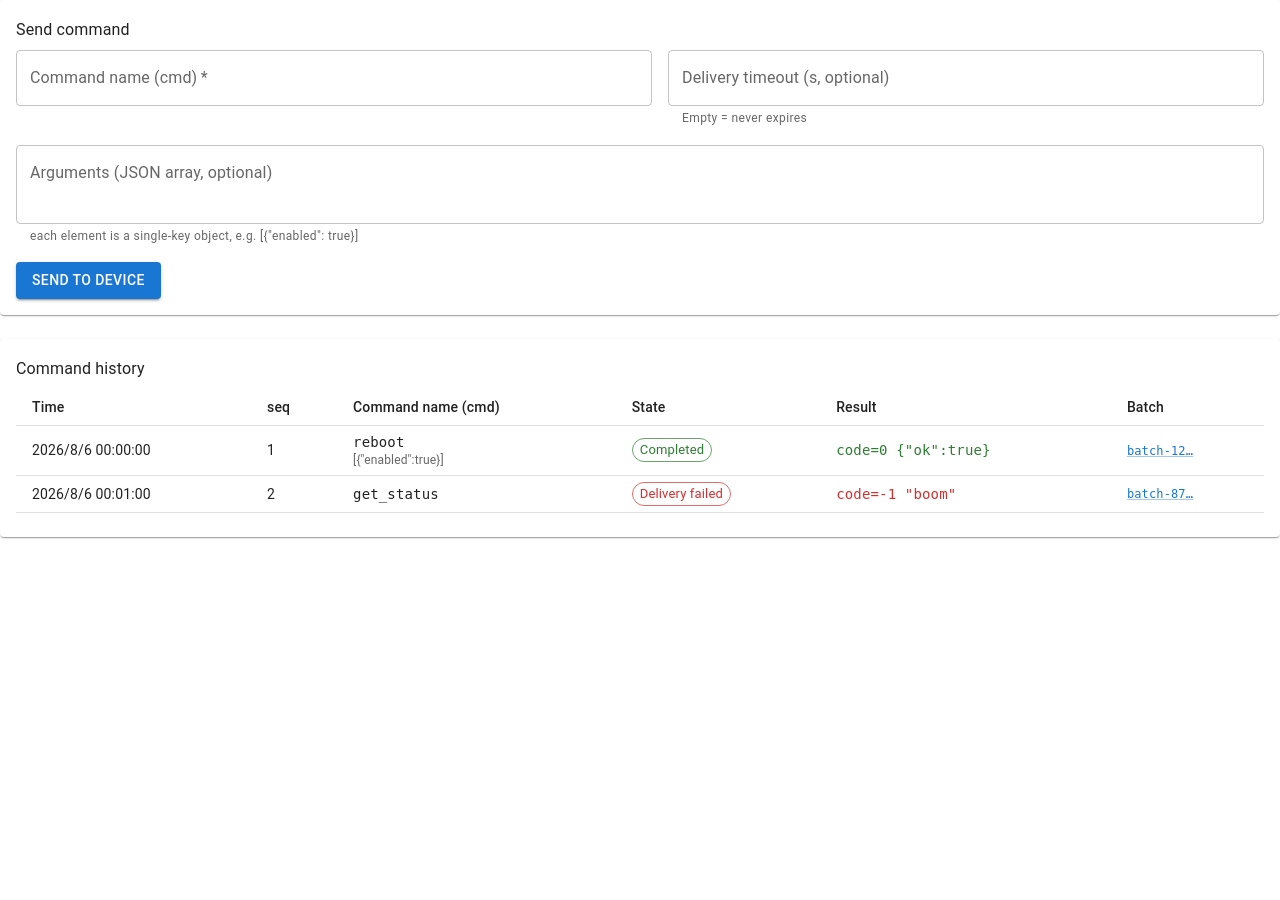
Test case: CommandHistory › clicking a batch link opens the batch dialog
The width and height of the screenshot is (1280, 900).
Click the button "batch-12…".
click(1160, 451)  # box [1127,443,1193,460]
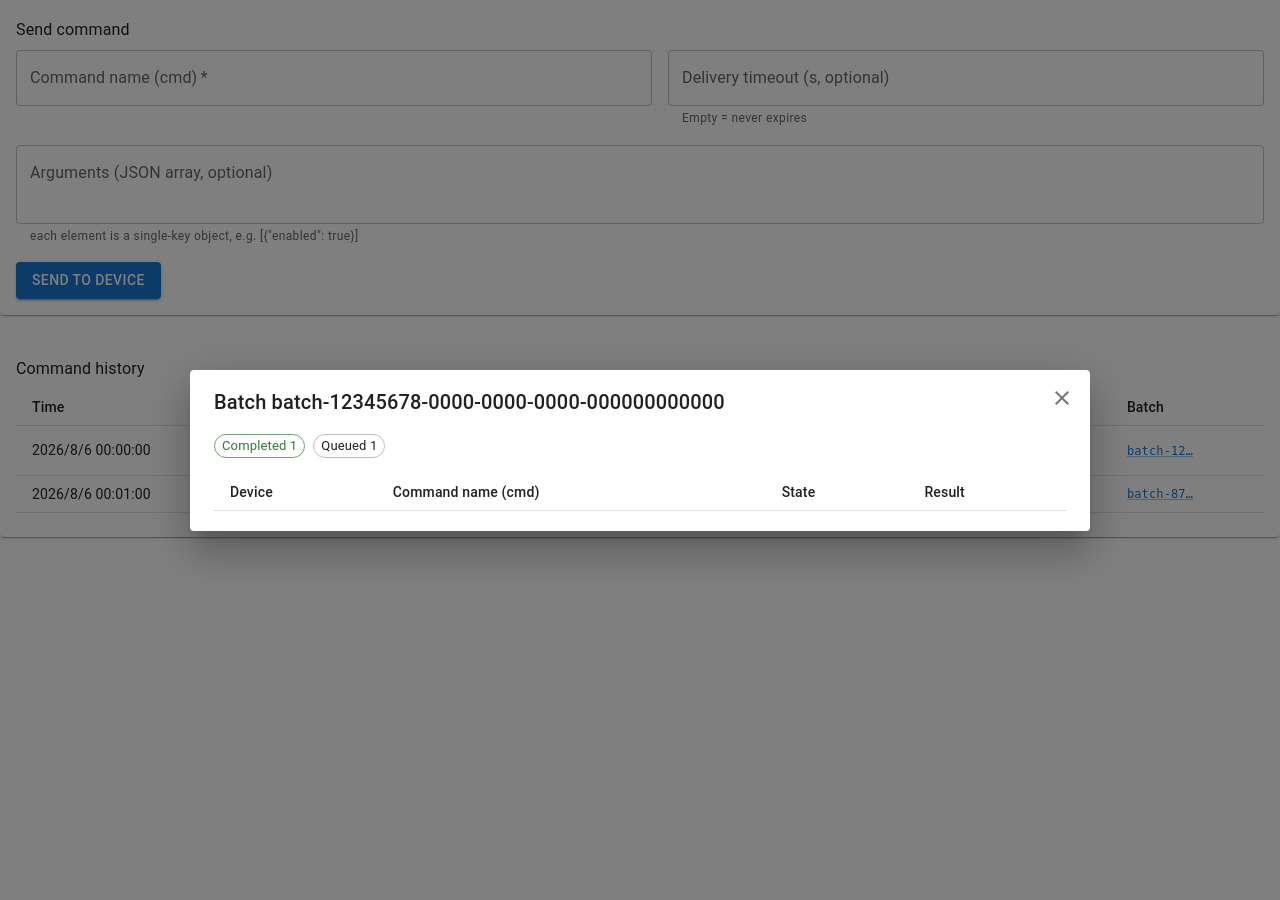
Check: the heading "Batch batch-12345678-0000-0000-0000-000000000000" is shown, box [190,370,1090,434]
Check: the text "Completed 1" is shown, box [222,438,297,453]
Check: the text "Queued 1" is shown, box [321,438,377,453]
close button calls onClose (dialog unmounts)
Click the button named "Close".
click(1062, 398)  # box [1042,378,1082,418]
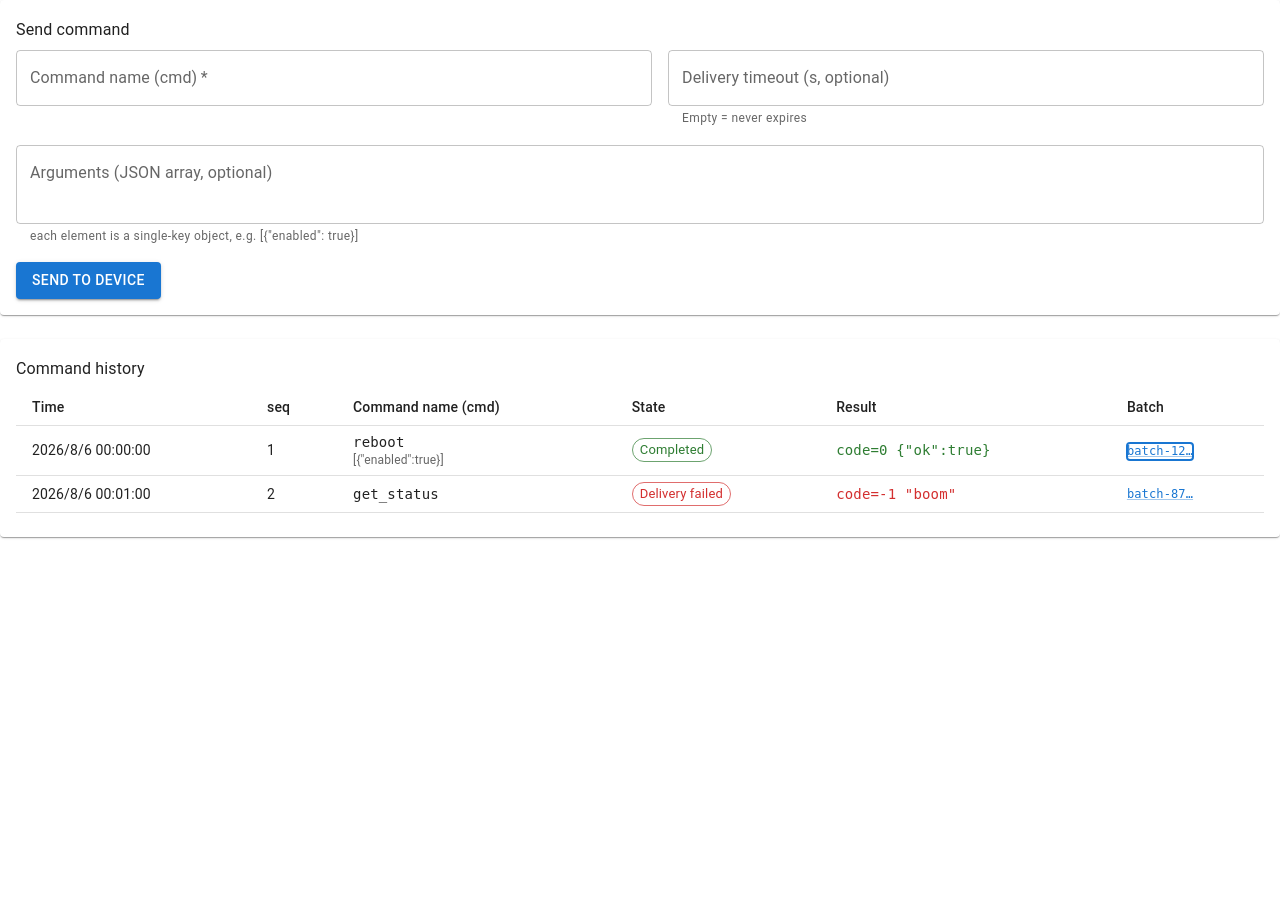
Check: the heading "Batch batch-12345678-0000-0000-0000-000000000000" is gone
